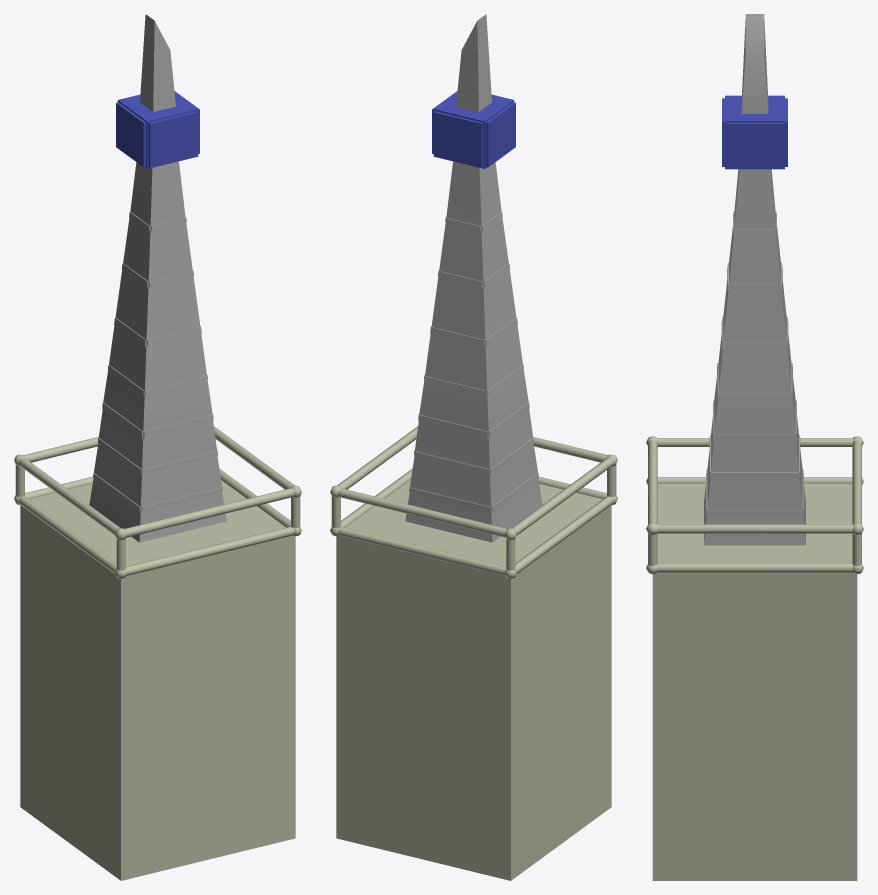
3 renders of one model, left to right at view 1: azimuth 30°, elevation 25°; view 2: azimuth 150°, elevation 25°; view 3: azimuth 270°, elevation 25°, orthographic.
Parts seen in each view (by area): view 1: 立方体, 角锥, 立方体_1; view 2: 立方体, 角锥, 立方体_1; view 3: 立方体, 角锥, 立方体_1.
Part boxes in pixels (x1,y1,x2,y2): 立方体: (20, 480, 295, 880); 角锥: (89, 14, 226, 542); 立方体_1: (14, 426, 301, 578); 立方体: (336, 480, 611, 880); 角锥: (405, 14, 542, 542); 立方体_1: (330, 426, 617, 578); 立方体: (652, 483, 857, 880); 角锥: (704, 14, 805, 545); 立方体_1: (646, 436, 863, 574).
Bounding box in the file's own units: 213 × 885 × 213.
